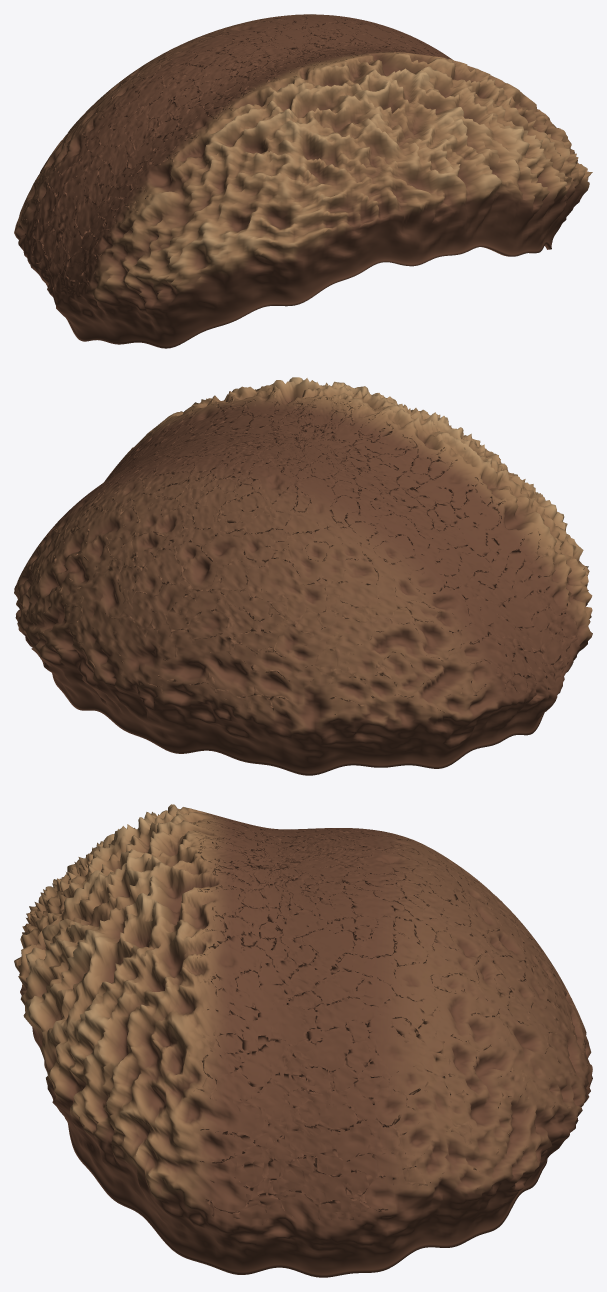
The model's file is Ombre-03ca3a563e69253-hair.glb.
3 views of the same model, one above another, from view 1: azimuth 30°, elevation 25°; view 2: azimuth 150°, elevation 25°; view 3: azimuth 270°, elevation 25° (orthographic). The views are drawn at different scales.
Visible parts, largest first — view 1: 226 hair / Hair252 / dense natural coil groups.001; view 2: 226 hair / Hair252 / dense natural coil groups.001; view 3: 226 hair / Hair252 / dense natural coil groups.001.
Part boxes in pixels (x1,y1,x2,y2): 226 hair / Hair252 / dense natural coil groups.001: (14,14,592,348); 226 hair / Hair252 / dense natural coil groups.001: (14,377,592,775); 226 hair / Hair252 / dense natural coil groups.001: (14,804,592,1277).
Bounding box in the file's own units: 1.06 × 0.5107 × 0.8736.
1 material, 1 textured.
